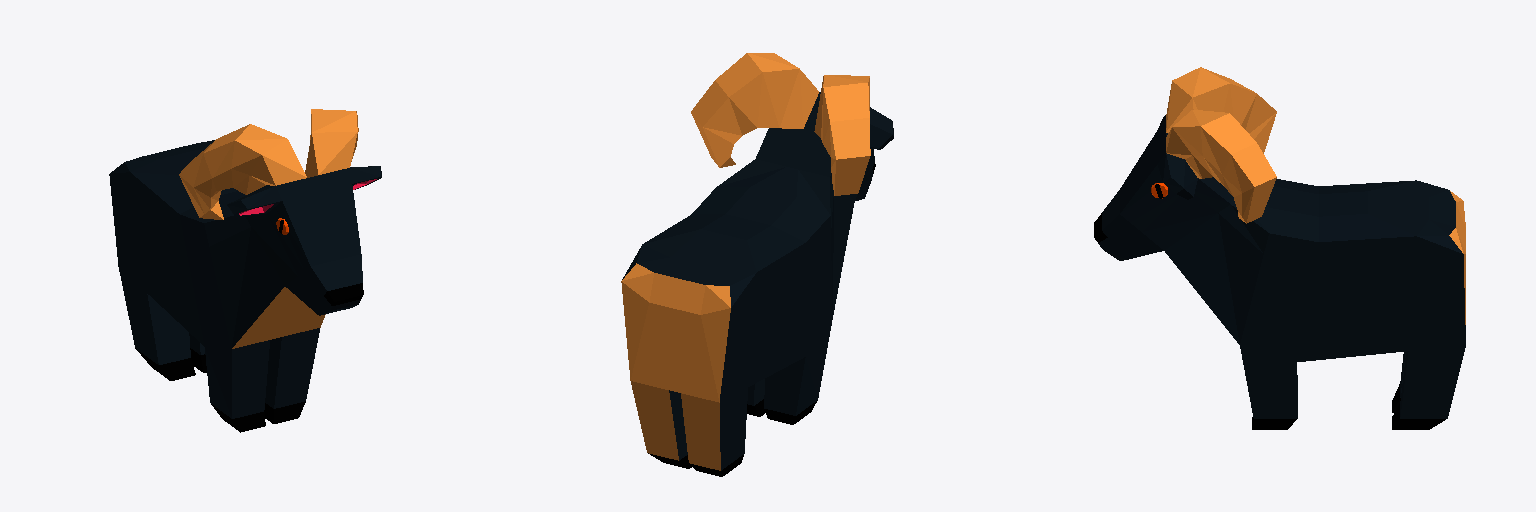
The model's file is Ram_01.obj.
The picture shows the model from 3 angles: view 1: azimuth 30°, elevation 25°; view 2: azimuth 150°, elevation 25°; view 3: azimuth 270°, elevation 25°; orthographic projection.
Parts seen in each view (by area): view 1: Ram_01_Cube.035; view 2: Ram_01_Cube.035; view 3: Ram_01_Cube.035.
Part boxes in pixels (left/top/right/bottom): Ram_01_Cube.035: left=109, top=109, right=381, bottom=432; Ram_01_Cube.035: left=621, top=53, right=893, bottom=476; Ram_01_Cube.035: left=1094, top=67, right=1465, bottom=429.
Size of the model in its own units: 17.75 by 30.02 by 31.77.